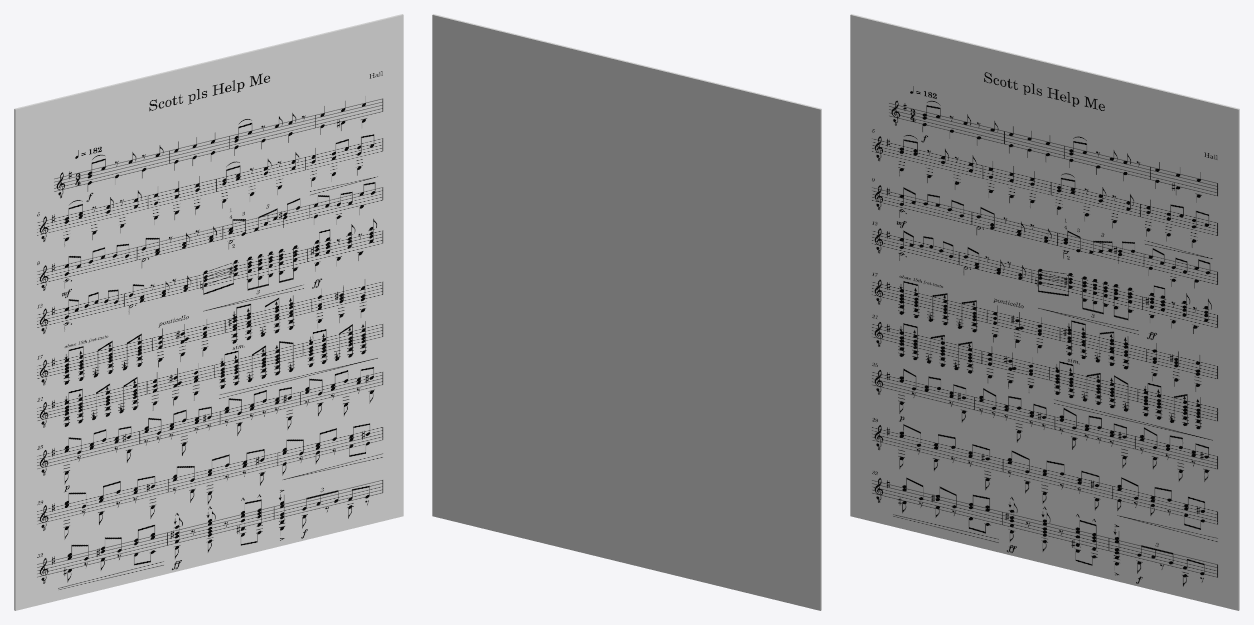
File: Music Sheet_textured_1.fbx
3 renders of one model, left to right at view 1: azimuth 30°, elevation 25°; view 2: azimuth 150°, elevation 25°; view 3: azimuth 330°, elevation 25°, orthographic.
Parts seen in each view (by area): view 1: Music_sheet; view 2: Music_sheet; view 3: Music_sheet.
Part boxes in pixels (<box>): Music_sheet: <box>14,14,403,610</box>; Music_sheet: <box>432,14,821,610</box>; Music_sheet: <box>850,14,1239,610</box>.
Bounding box in the file's own units: 0.1934 × 0.2386 × 0.001.
2 materials, 1 textured.
